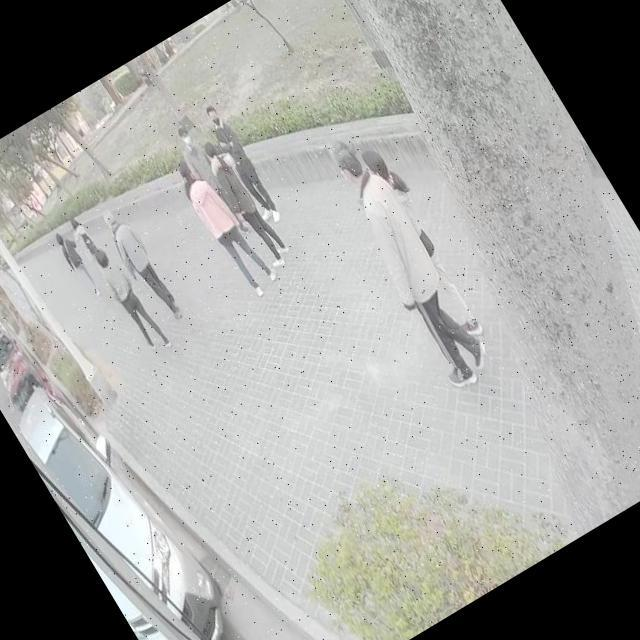person: (312, 127, 496, 392), (359, 141, 490, 338), (171, 148, 283, 301), (203, 132, 294, 266), (95, 200, 185, 326), (200, 101, 284, 225), (90, 240, 170, 354), (52, 225, 106, 300), (172, 123, 225, 190), (65, 212, 101, 260)
